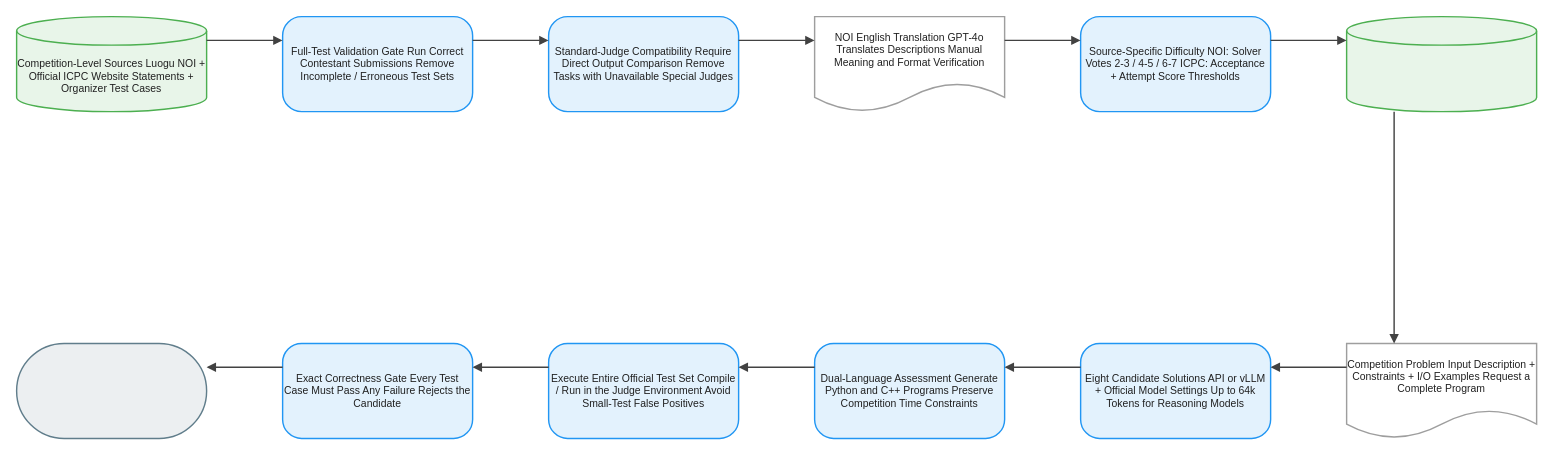
This 1554x456 diagram has some shape labels left out. Each missing label, with the centre of its shape:
"OJBench Results Pass@1 and Pass@8 By Language and Difficulty" belongs at point 111,390.
"OJBench: 232 Problems 159 NOI + 73 ICPC 36 Easy / 79 Medium / 117 Hard" belongs at point 1441,63.
